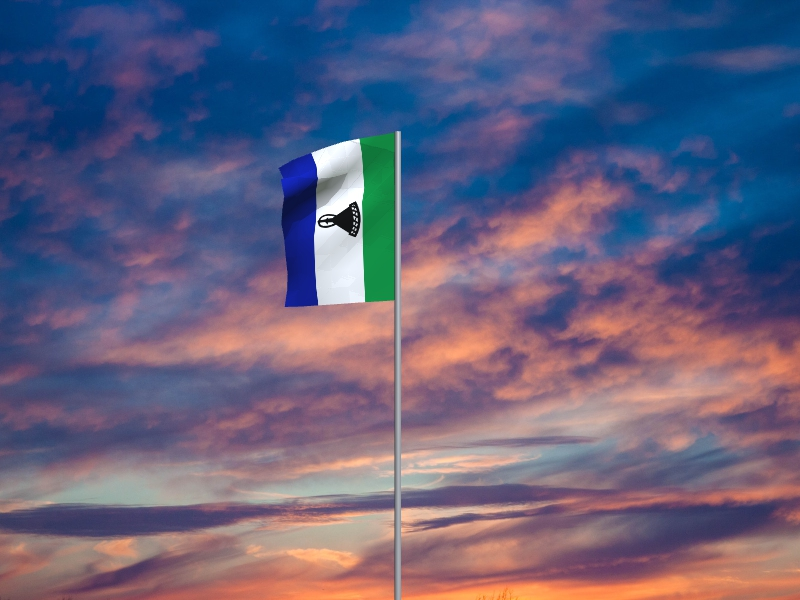ls: (278, 133, 395, 309)
